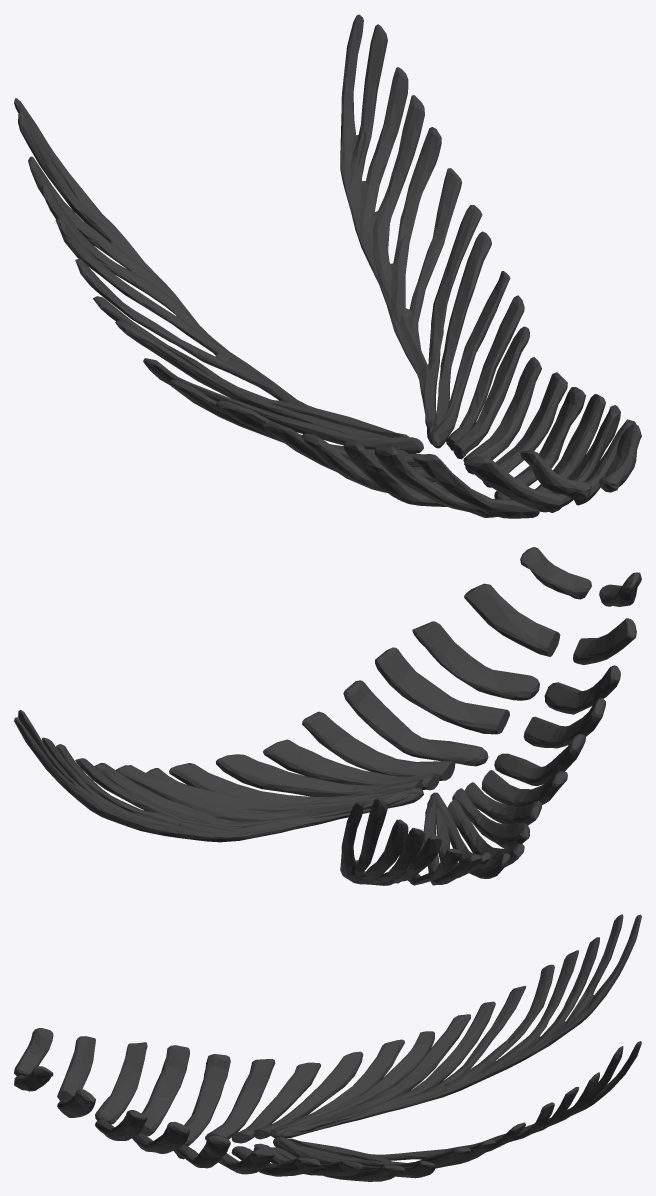
Rendered from skel_cartilage_costal.glb.
3 renders of one model, top to bottom at view 1: azimuth 30°, elevation 25°; view 2: azimuth 150°, elevation 25°; view 3: azimuth 270°, elevation 25°, orthographic. The views are drawn at different scales.
Visible parts, largest first — view 1: skel_cartilage_costal; view 2: skel_cartilage_costal; view 3: skel_cartilage_costal.
Boxes of the visible parts, bbox=[...] form: skel_cartilage_costal: bbox=[14, 14, 641, 518]; skel_cartilage_costal: bbox=[14, 547, 641, 885]; skel_cartilage_costal: bbox=[14, 914, 641, 1181].
Size of the model in its own units: 0.00718 by 0.00414 by 0.0135.
Materials: 1 (1 with a texture image).
